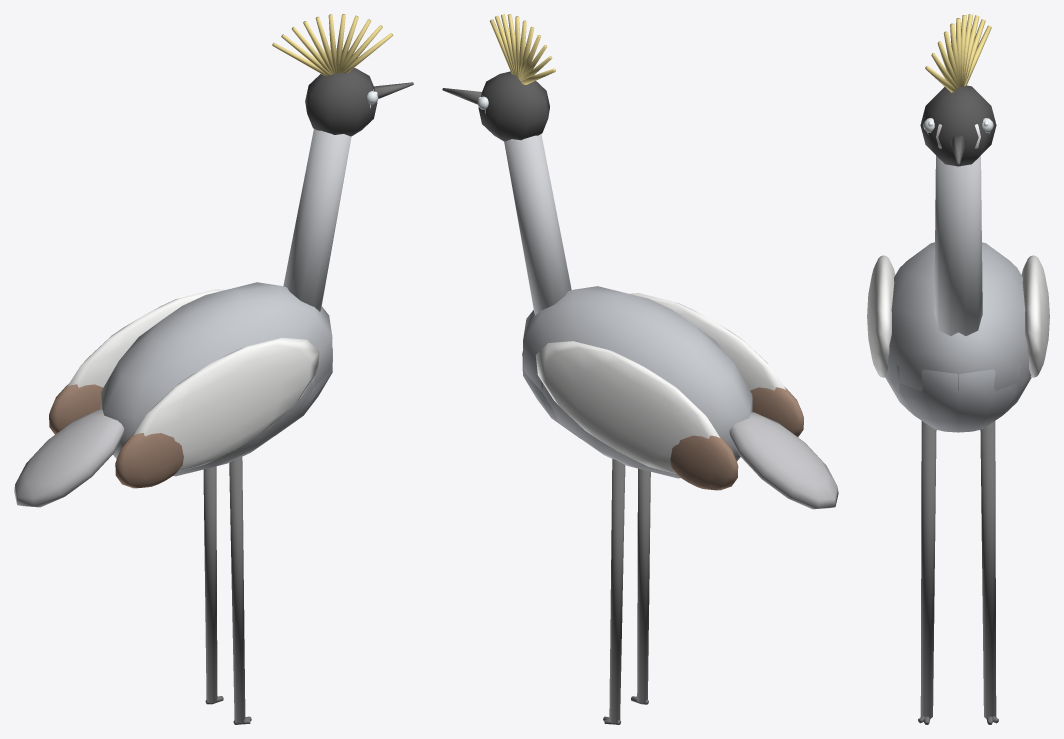
The model's file is grey-crowned-crane.glb.
3 views of the same model, side by side, from view 1: azimuth 30°, elevation 25°; view 2: azimuth 150°, elevation 25°; view 3: azimuth 270°, elevation 25° (orthographic). The views are drawn at different scales.
Visible parts, largest first — view 1: e, e.002, e.009, e.007, e.004, limb, limb.004; view 2: e, e.004, e.007, e.009, e.002, limb.004, limb; view 3: e, e.007, e.009, limb, limb.004, e.002, e.004.
Part boxes in pixels (x1=…): e: x1=14, y1=282, x2=332, y2=507; e.002: x1=115, y1=337, x2=319, y2=488; e.009: x1=272, y1=14, x2=413, y2=136; e.007: x1=283, y1=129, x2=351, y2=311; e.004: x1=49, y1=289, x2=224, y2=434; limb: x1=229, y1=456, x2=251, y2=724; limb.004: x1=203, y1=466, x2=223, y2=704; e: x1=522, y1=286, x2=838, y2=509; e.004: x1=535, y1=341, x2=738, y2=490; e.007: x1=504, y1=134, x2=571, y2=315; e.009: x1=442, y1=14, x2=555, y2=141; e.002: x1=629, y1=293, x2=803, y2=436; limb.004: x1=603, y1=459, x2=625, y2=724; limb: x1=631, y1=468, x2=650, y2=704; e: x1=885, y1=242, x2=1031, y2=432; e.007: x1=934, y1=155, x2=982, y2=335; e.009: x1=920, y1=14, x2=996, y2=166; limb: x1=918, y1=421, x2=936, y2=724; limb.004: x1=980, y1=421, x2=998, y2=724; e.002: x1=867, y1=255, x2=895, y2=377; e.004: x1=1021, y1=255, x2=1049, y2=377.
Size of the model in its own units: 0.8061 by 1.31 by 0.286.
